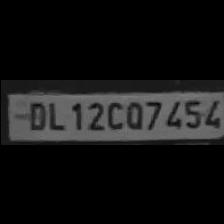1: (64, 97, 84, 129)
2: (84, 97, 104, 130)
4: (160, 96, 182, 130), (201, 96, 221, 128)
5: (181, 96, 201, 128)
7: (141, 96, 159, 130)
C: (104, 97, 122, 129)
D: (22, 97, 46, 129)
L: (46, 97, 64, 129)
Q: (122, 97, 144, 129)
